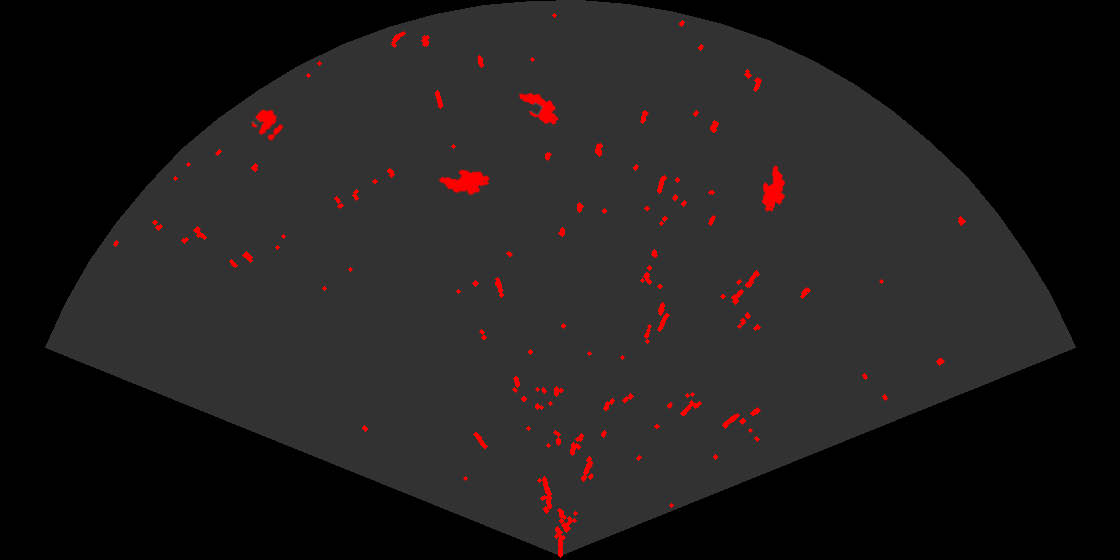AUV: (437, 168, 492, 197), (518, 91, 560, 126), (761, 164, 786, 213)
ball: (250, 108, 285, 142)
